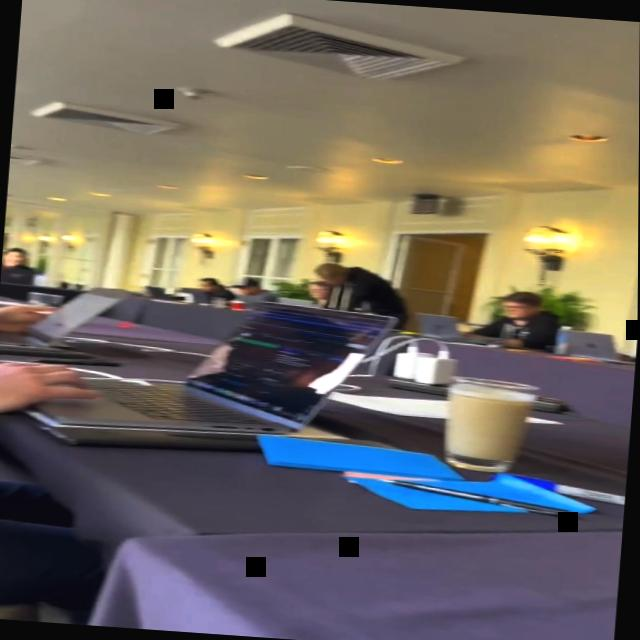NO-Mask: (500, 300, 528, 320), (4, 249, 27, 267), (309, 284, 328, 300), (322, 272, 342, 287), (197, 278, 212, 291), (237, 286, 254, 297)
